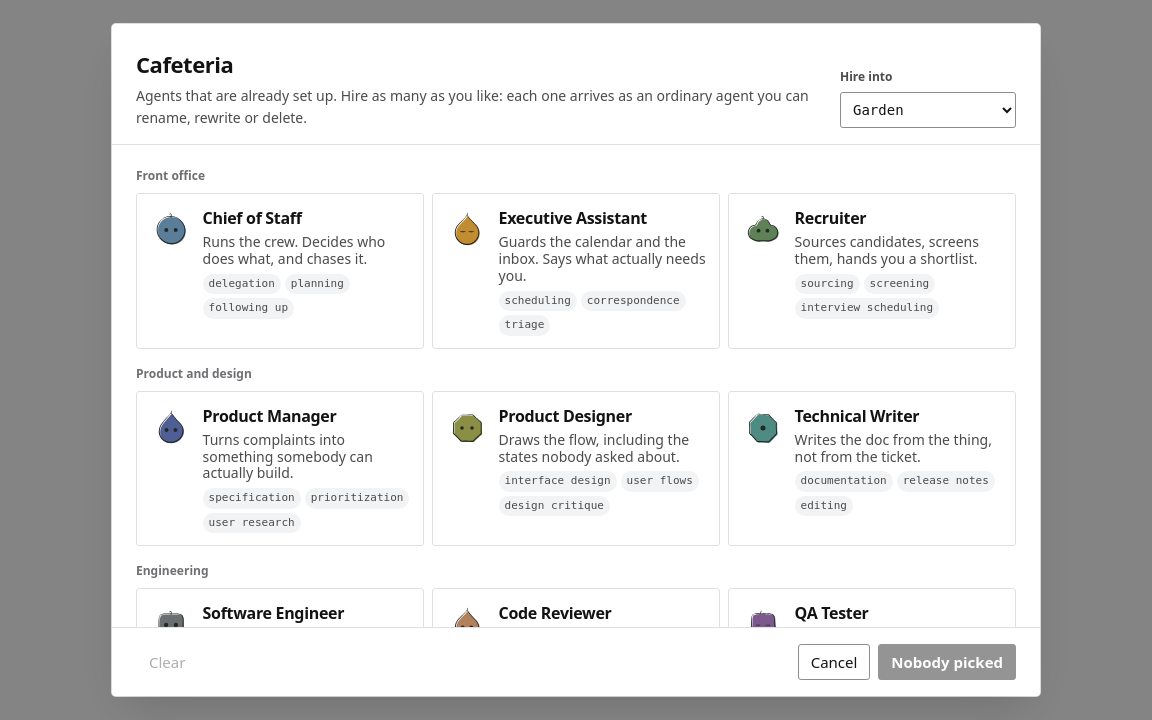
where a hire lands › follows the open channel when the rail is in the overview
Expected: the button "Nobody picked" is shown, left=878, top=644, right=1016, bottom=680
Click the button "Executive Assistant" at (576, 271), box left=432, top=193, right=720, bottom=349
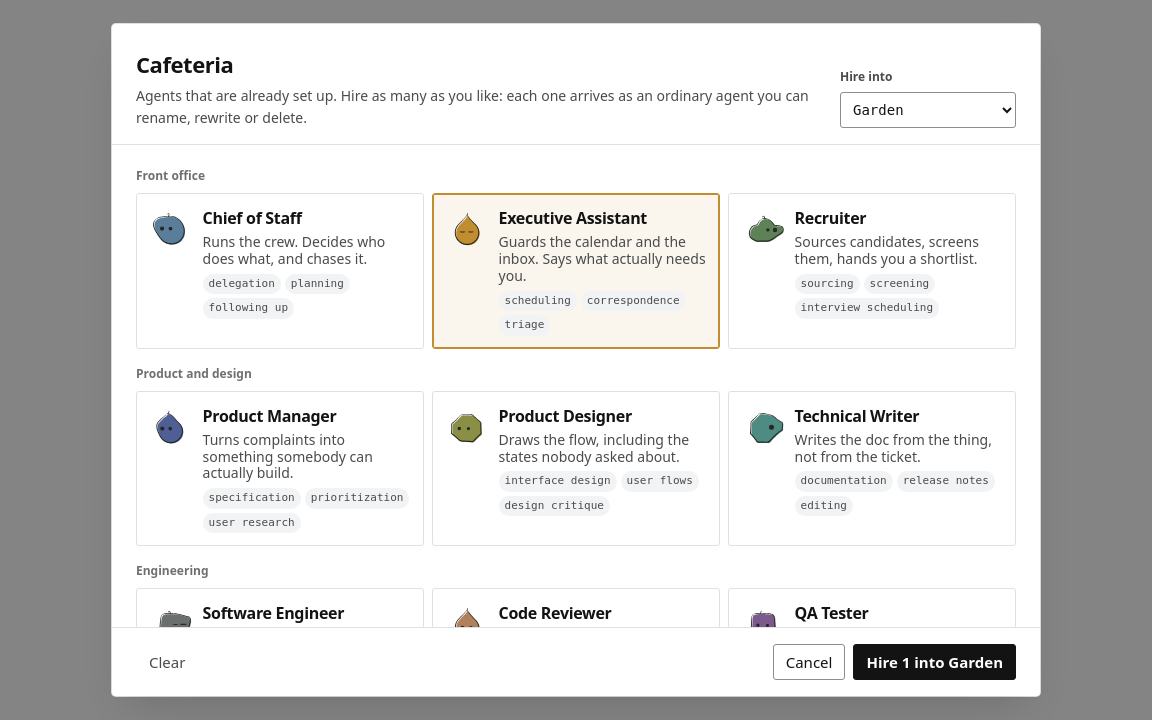
Result: the button "Hire 1 into Garden" is shown at left=853, top=644, right=1016, bottom=680
